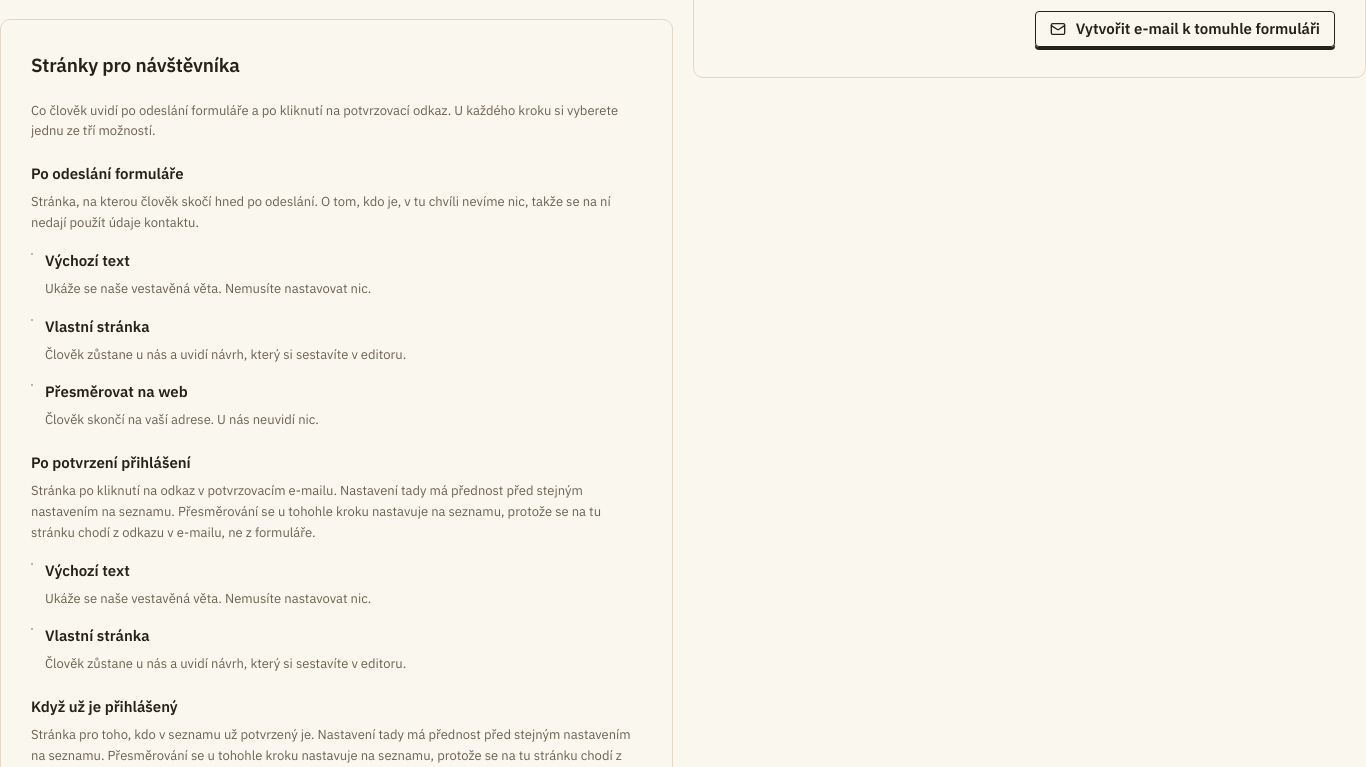
Test: FormEditor a stránky pro návštěvníka › adresu bez https ani neuloží a řekne proč
The image size is (1366, 767).
(page scrolled)
Click the 3rd radio button at (32, 385), box top-left (31, 384), bottom-right (33, 386)
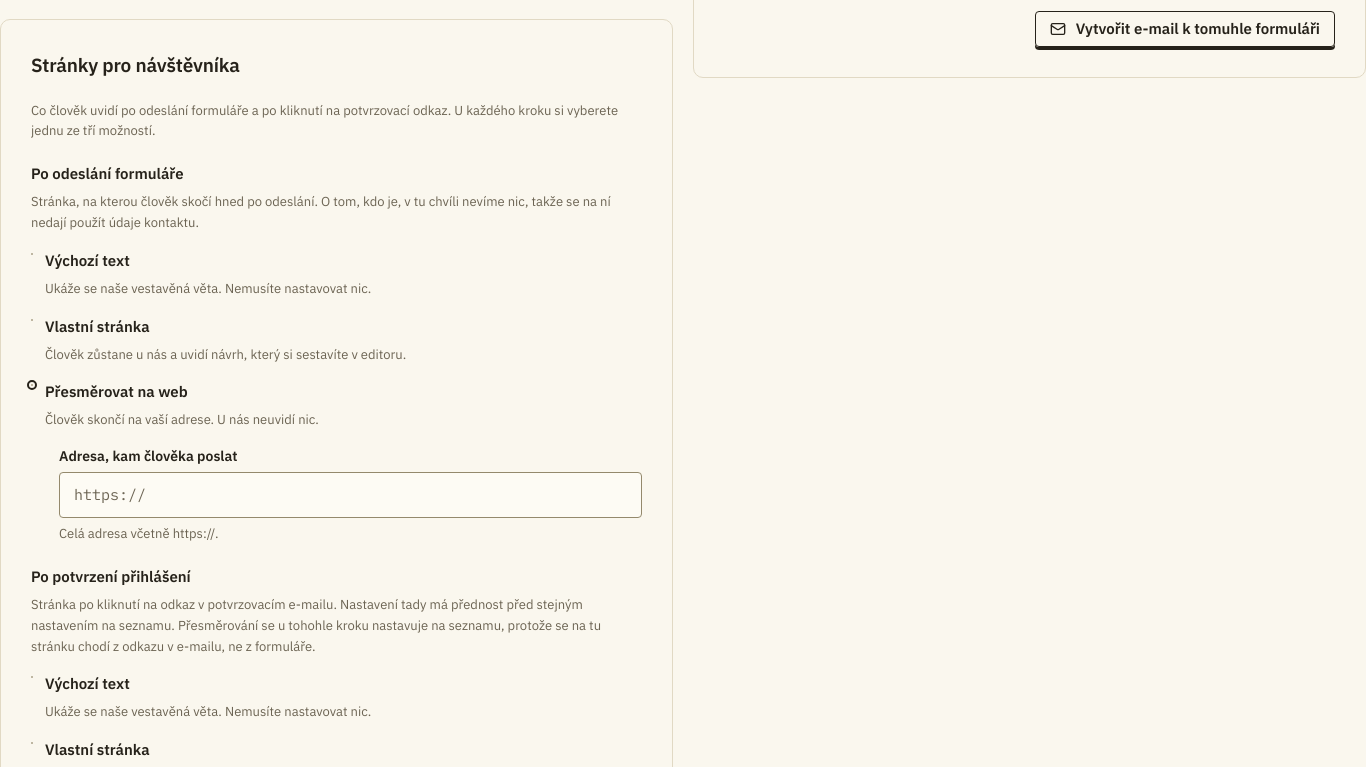
Type "example.cz/diky" into the field with test id "form-page-thanks-redirect" at (350, 495), box top-left (59, 472), bottom-right (642, 518)
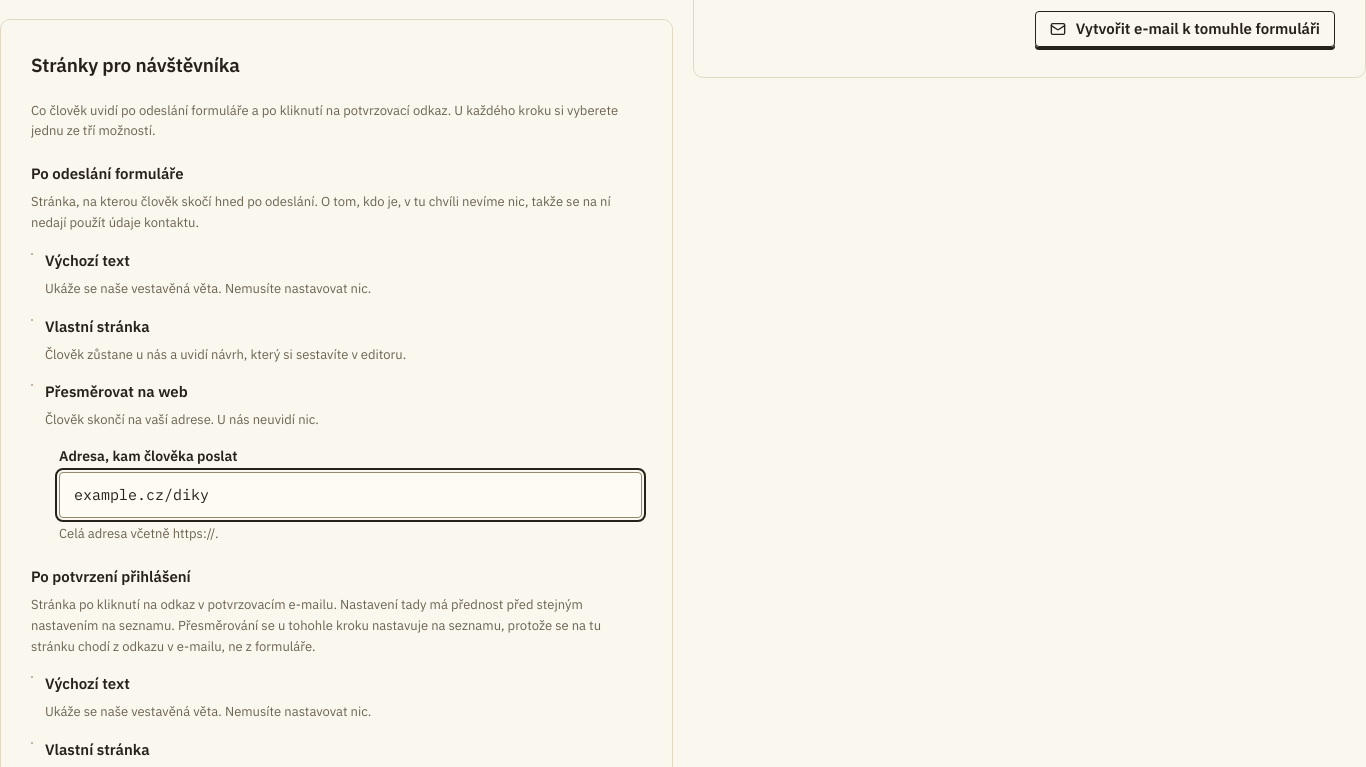
Press Tab
(page scrolled)
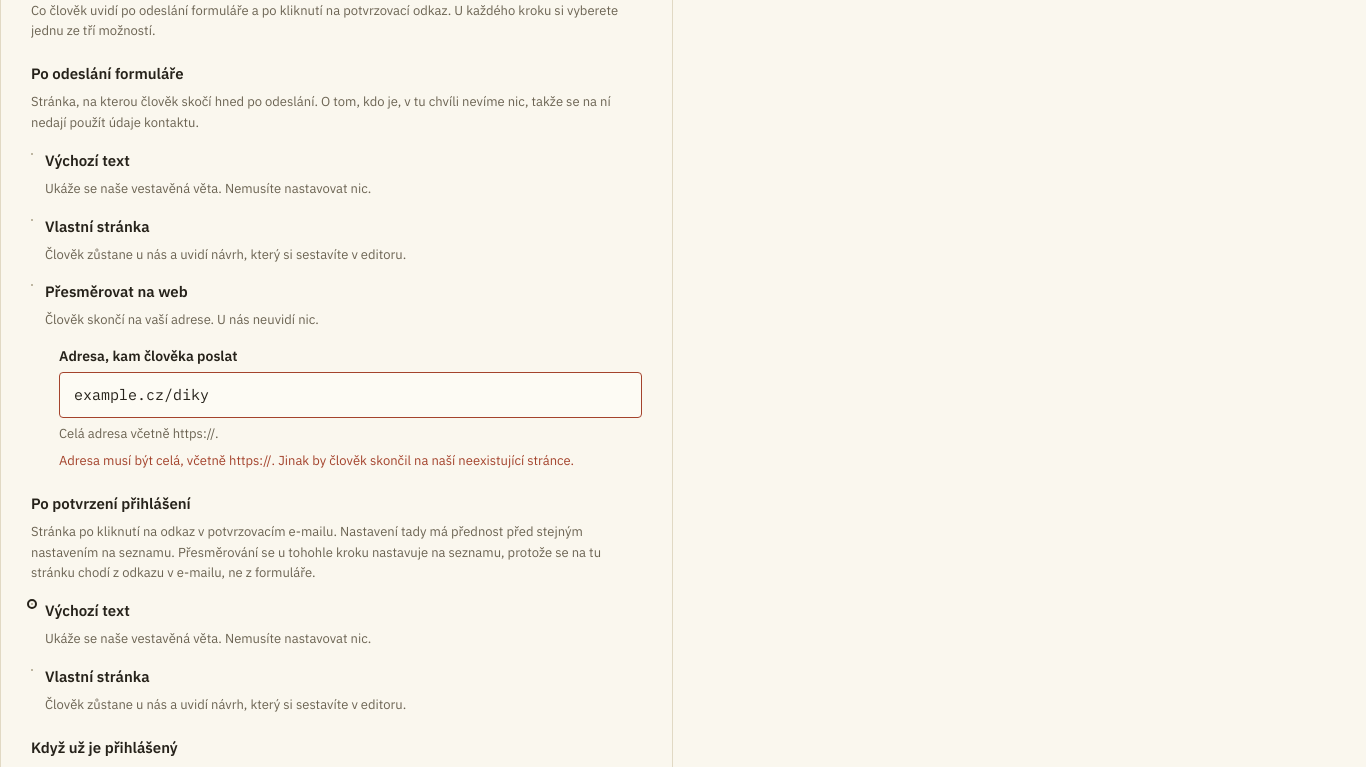
Expected: the text "celá, včetně https" is shown, top-left (59, 452), bottom-right (574, 469)
